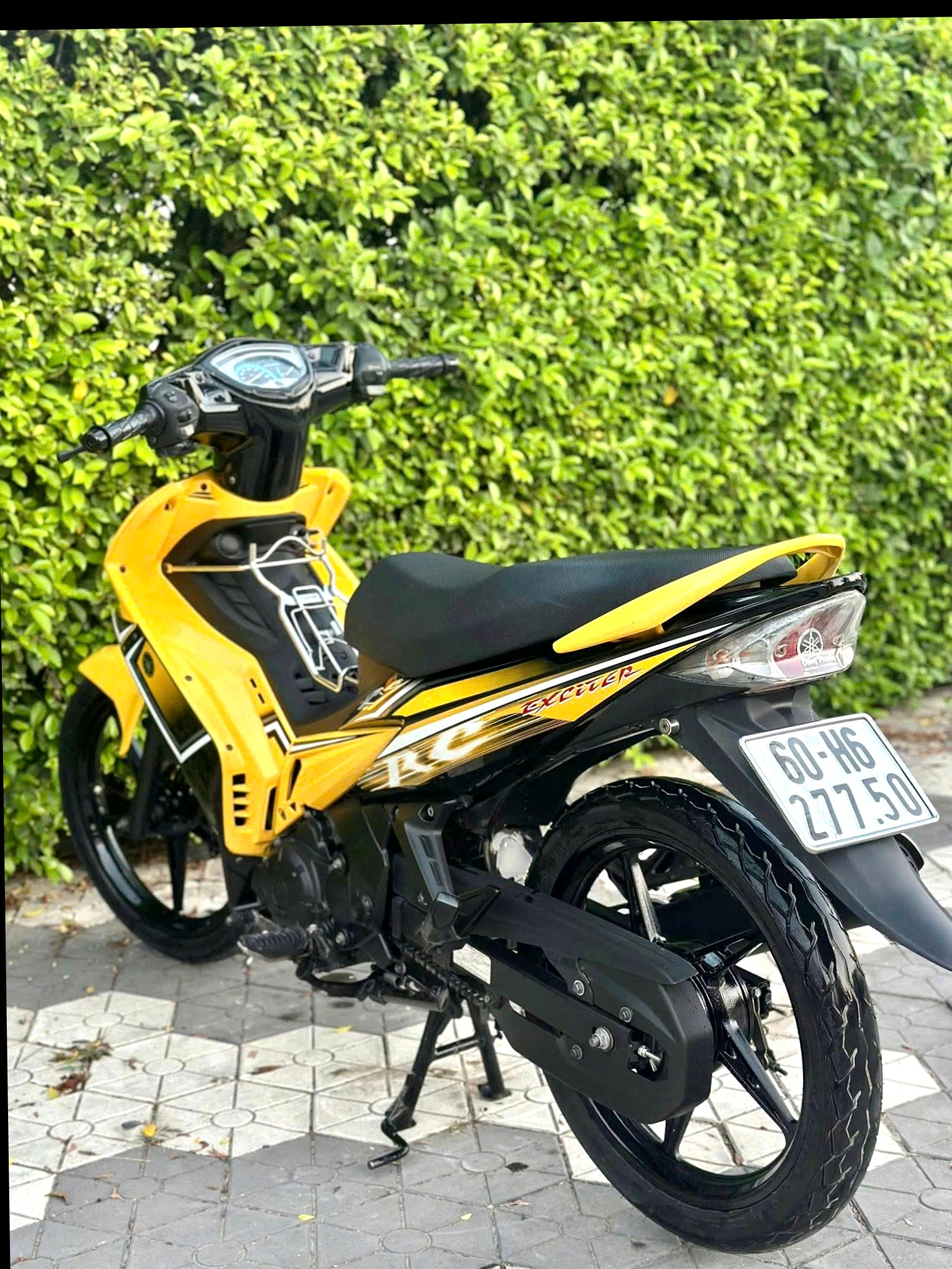Bien-so: (697, 664, 891, 822)
